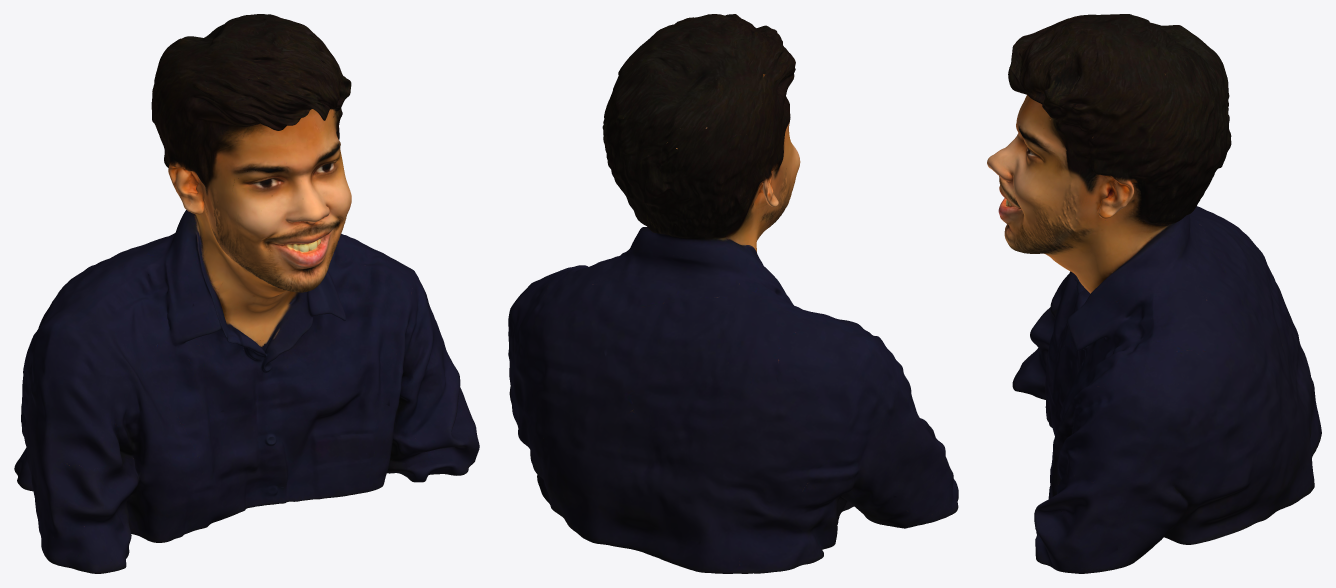
The model's file is neham-portrait-retouched.glb.
The picture shows the model from 3 angles, left to right: view 1: azimuth 30°, elevation 25°; view 2: azimuth 150°, elevation 25°; view 3: azimuth 270°, elevation 25°; orthographic projection. The views are drawn at different scales.
Parts seen in each view (by area): view 1: Portrait Retouched; view 2: Portrait Retouched; view 3: Portrait Retouched.
Boxes of the visible parts, box(x1,y1,x2,y2) form: Portrait Retouched: box(14, 14, 479, 573); Portrait Retouched: box(508, 14, 958, 573); Portrait Retouched: box(987, 14, 1321, 573).
Bounding box in the file's own units: 1.85 × 1.9 × 1.26.
2 materials, 2 textured.
